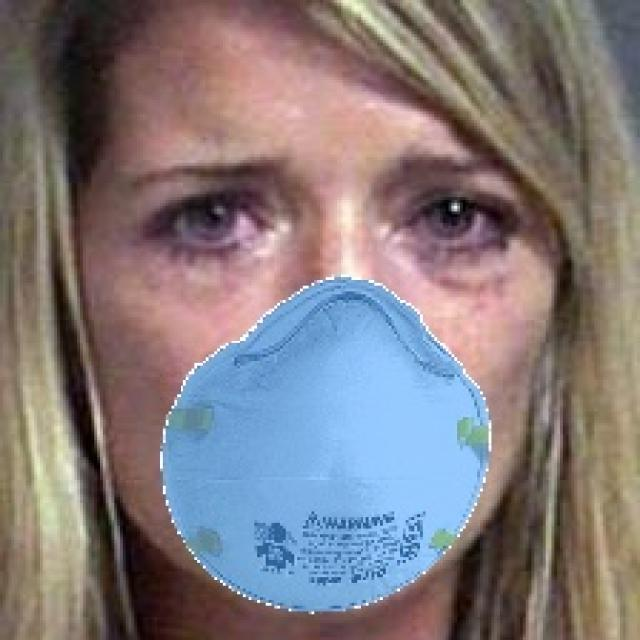mask: (180, 217, 498, 586)
